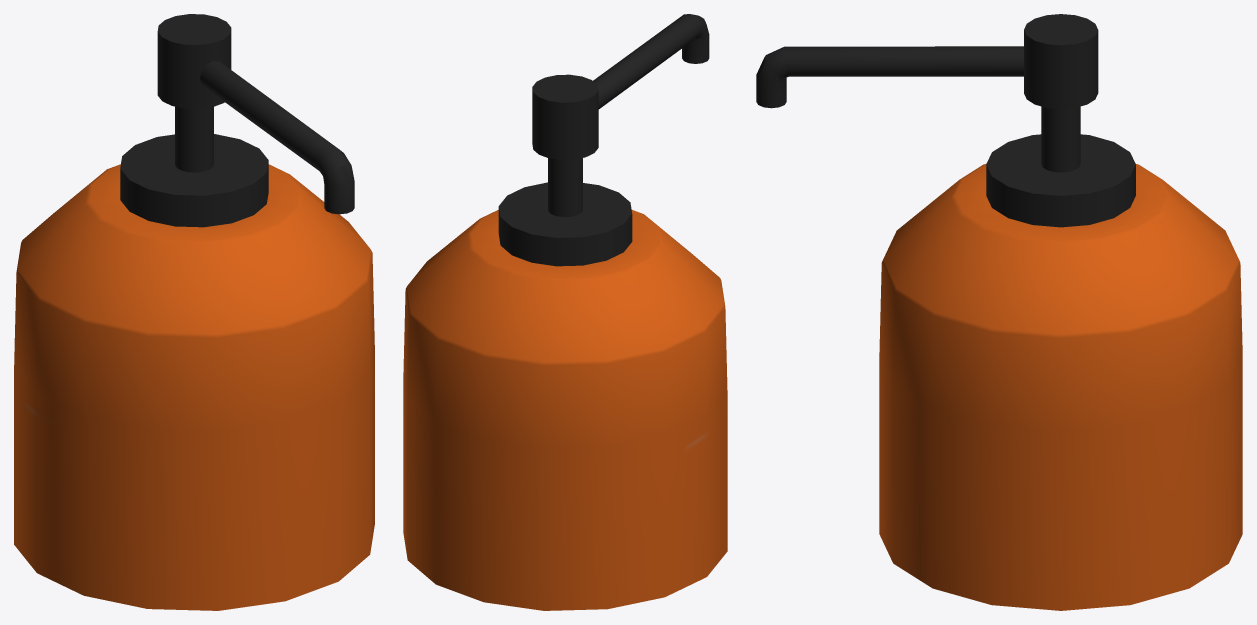
Rendered from SM_HandSoap.fbx.
The picture shows the model from 3 angles, left to right: view 1: azimuth 30°, elevation 25°; view 2: azimuth 150°, elevation 25°; view 3: azimuth 270°, elevation 25°; orthographic projection. The views are drawn at different scales.
Visible parts, largest first — view 1: SoapDispenser; view 2: SoapDispenser; view 3: SoapDispenser.
Boxes of the visible parts, box(x1,y1,x2,y2) form: SoapDispenser: box(14, 14, 374, 610); SoapDispenser: box(403, 14, 727, 610); SoapDispenser: box(756, 14, 1242, 610).
Size of the model in its own units: 12.18 by 18.67 by 16.31.
